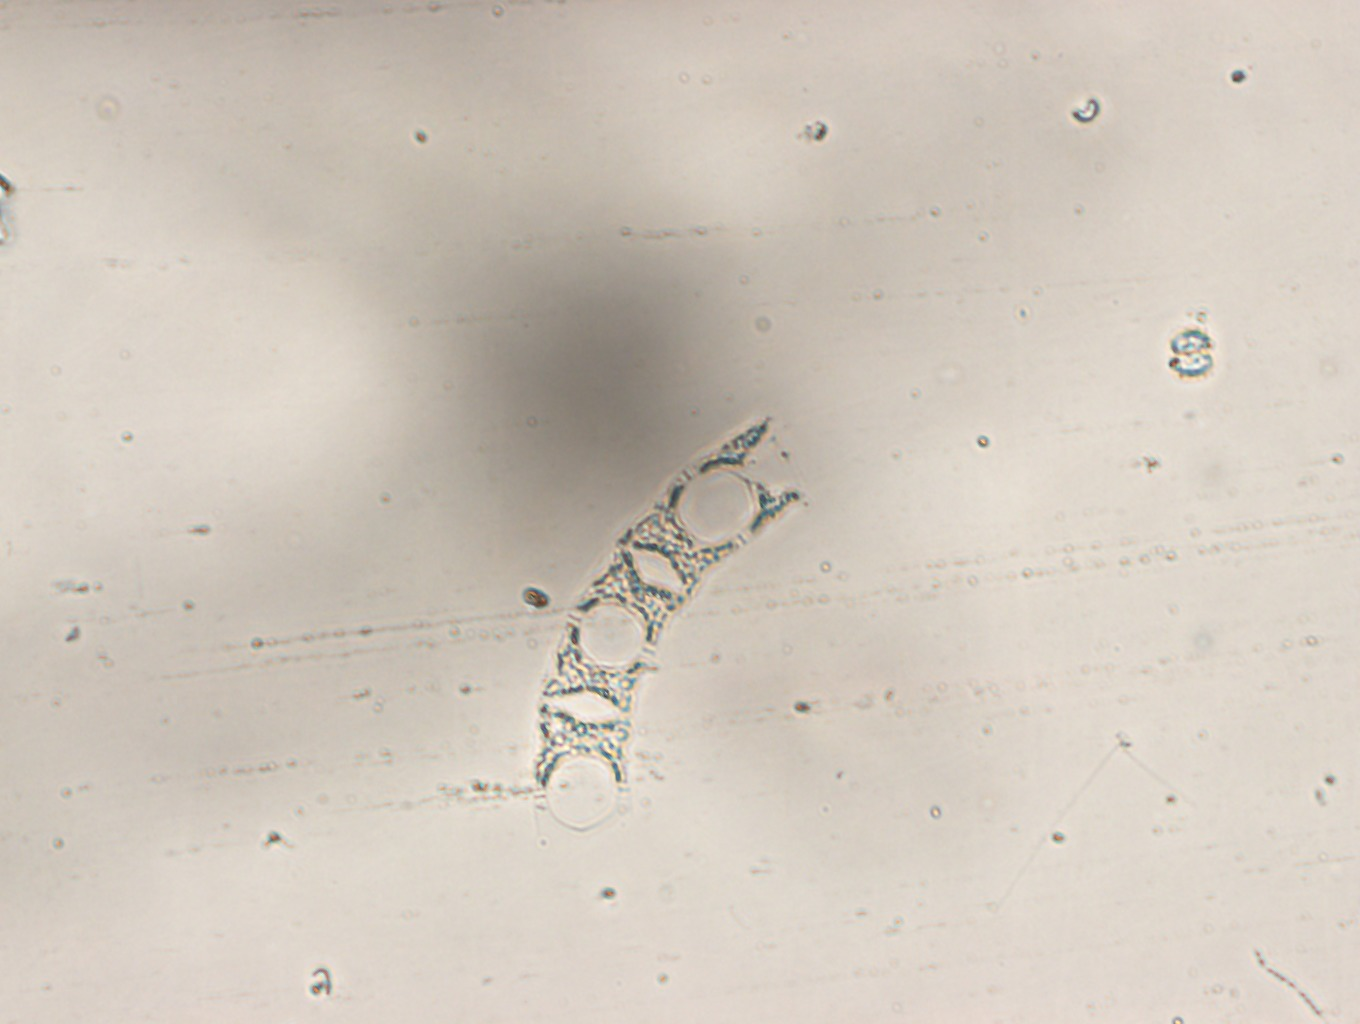eucampia: (536, 414, 801, 840)
